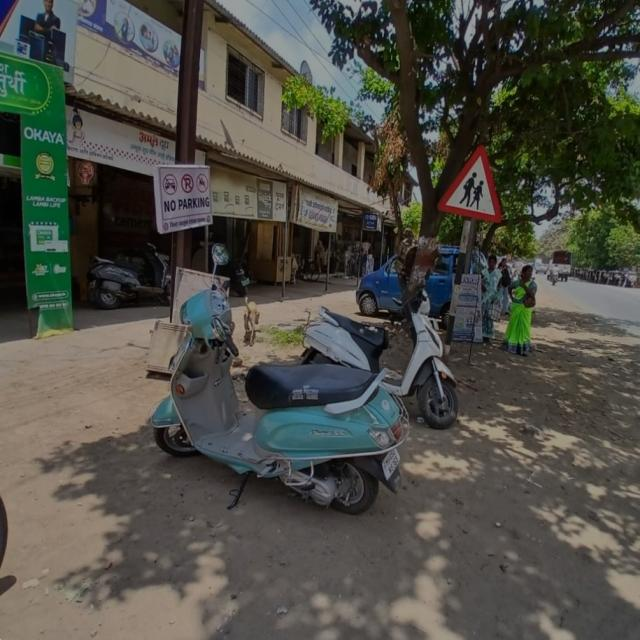illegalparking: (157, 158, 464, 545)
